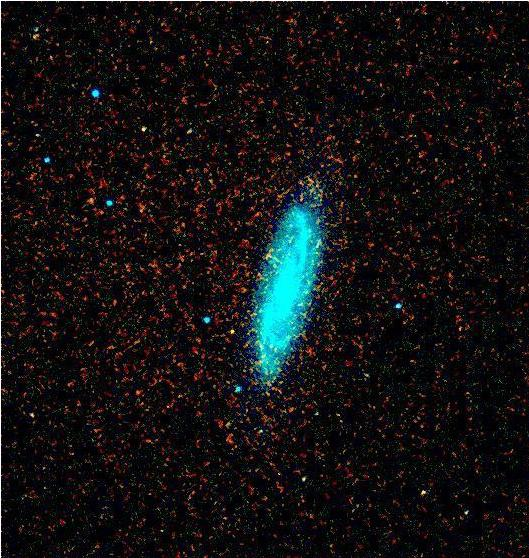star: (217, 316, 247, 346)
